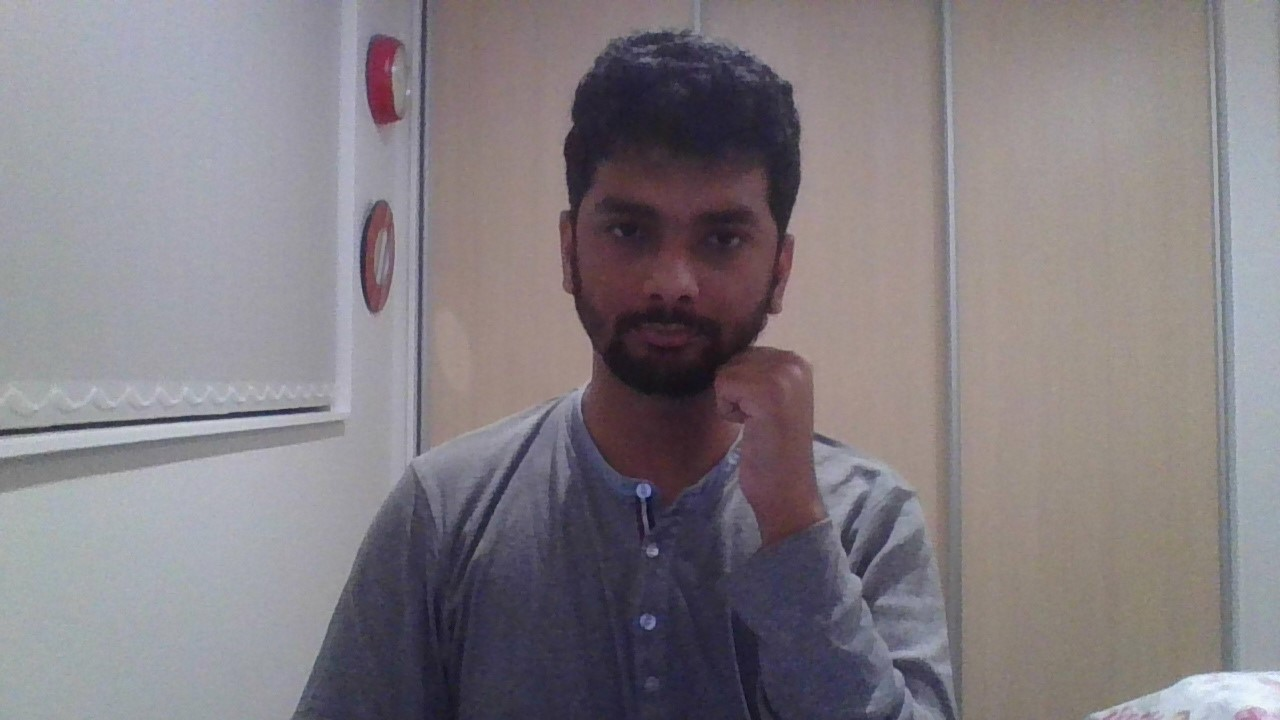day: (713, 348, 831, 554)
